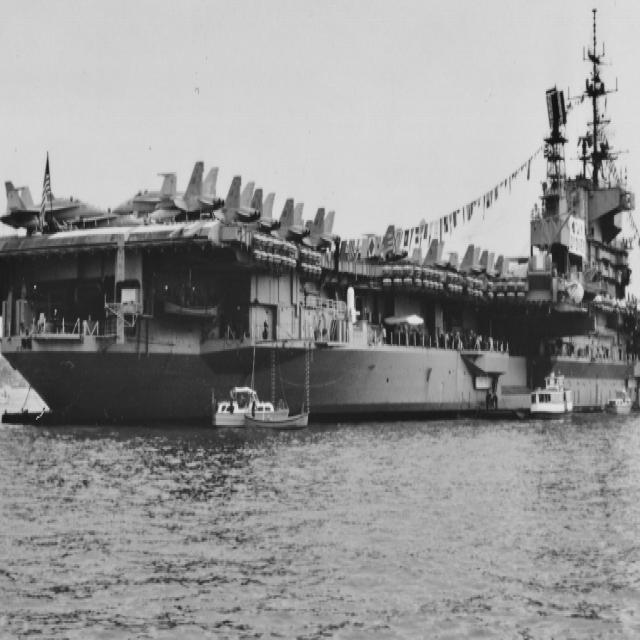Portanaves: (1, 1, 640, 436)
